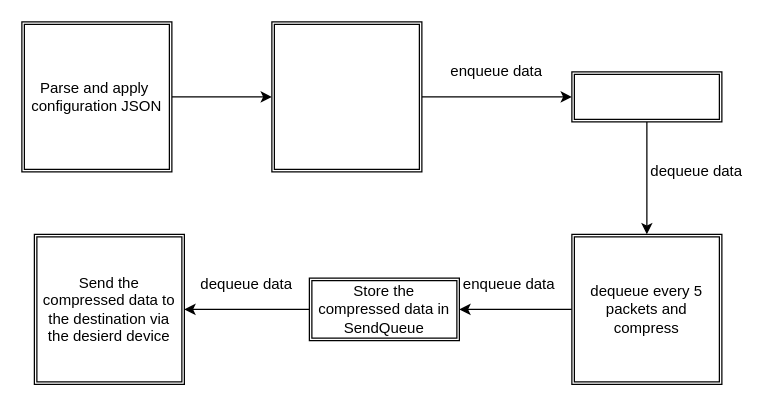
This 769x406 diagram has some shape labels left out. Each missing label, with the centre of its shape:
Start capturing packets on the desierd device: the point at 346,96
Store the data in ReciveQueue: the point at 646,96
